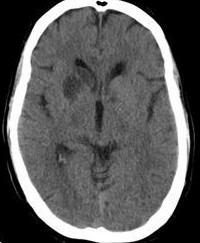Normal_Brain: (1, 1, 200, 243)
